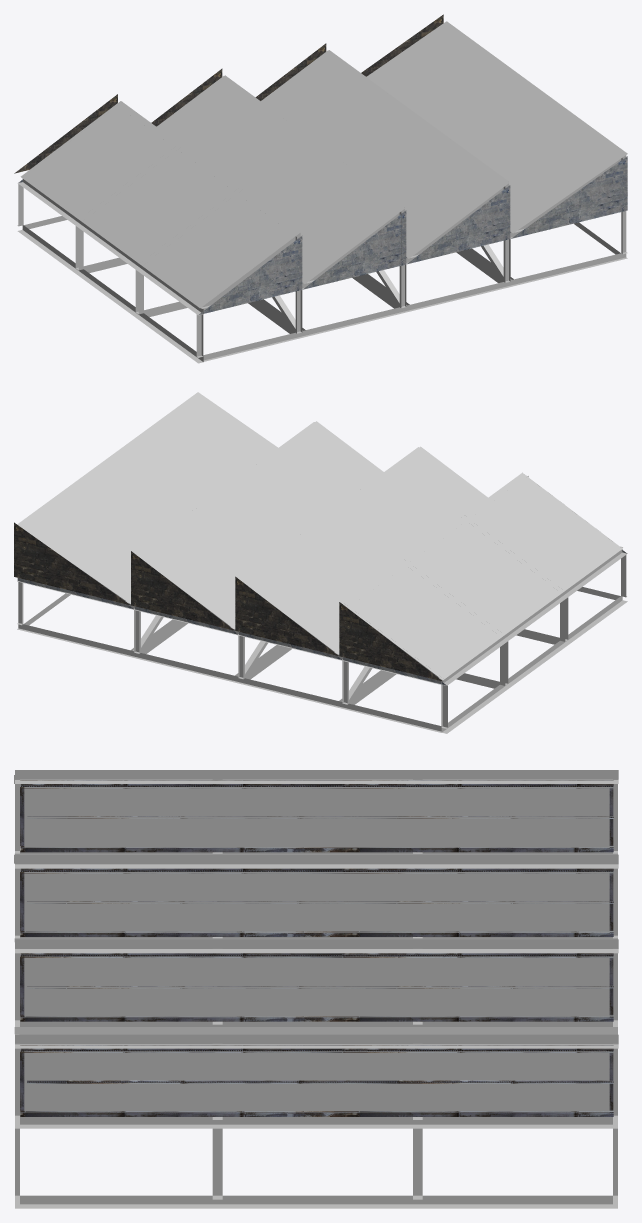
Rendered from factory_roof_04.DAE.
The picture shows the model from 3 angles, top to bottom: view 1: azimuth 30°, elevation 25°; view 2: azimuth 150°, elevation 25°; view 3: azimuth 270°, elevation 25°; orthographic projection. The views are drawn at different scales.
Visible parts, largest first — view 1: Box330, Object156, Object154, Object153, Box342; view 2: Box330, Object156, Object154, Box342, Object153; view 3: Plane005, Object154, Box331, Box330, Object156.
Part boxes in pixels (x1,y1,x2,y2): Box330: [157, 21, 627, 283]; Object156: [20, 50, 508, 308]; Object154: [17, 76, 627, 363]; Object153: [18, 156, 627, 314]; Box342: [14, 14, 443, 173]; Box330: [17, 392, 487, 654]; Object156: [48, 422, 622, 679]; Object154: [17, 447, 627, 733]; Box342: [14, 522, 442, 681]; Object153: [17, 550, 626, 685]; Plane005: [24, 787, 609, 1112]; Object154: [14, 770, 618, 1208]; Box331: [20, 780, 613, 1116]; Box330: [14, 853, 617, 1034]; Object156: [19, 854, 617, 1034].
Bounding box in the file's own units: 16.51 × 4.01 × 12.27.
